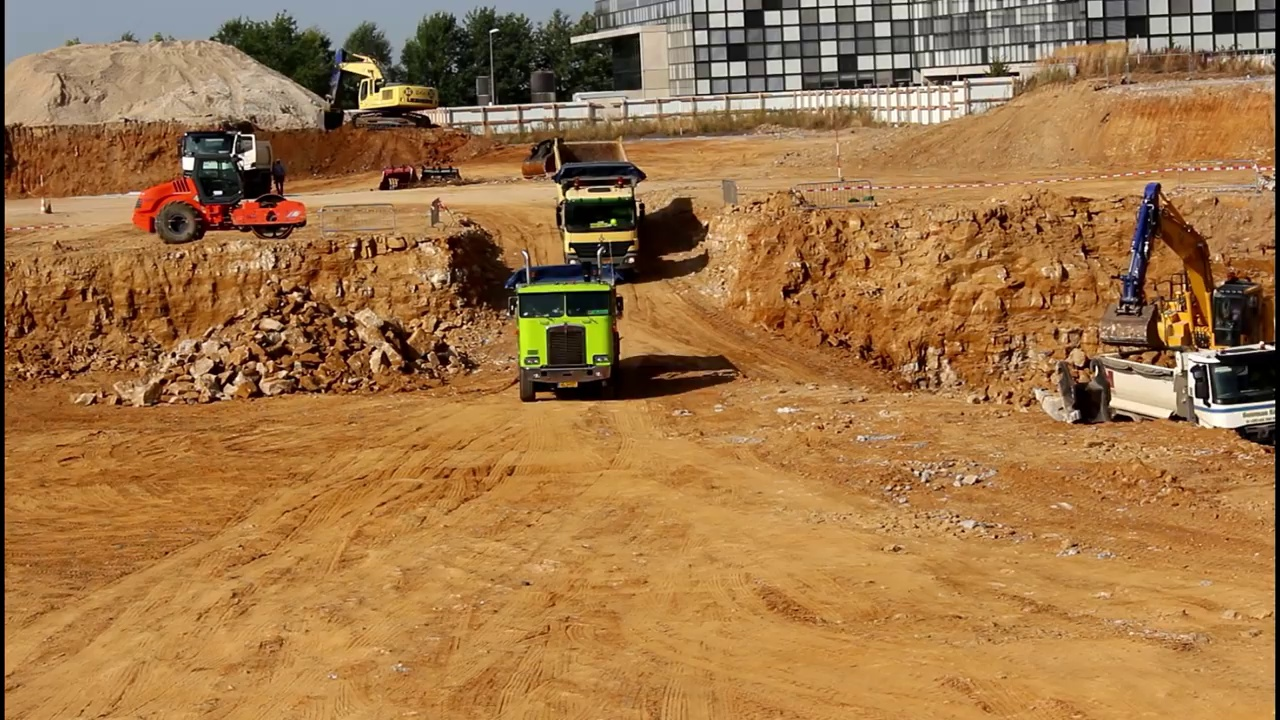compactor: (130, 155, 309, 243)
excavator: (1092, 178, 1280, 396), (317, 44, 443, 131)
truck: (1096, 338, 1280, 455), (507, 241, 631, 409), (547, 128, 653, 279), (174, 119, 278, 212)
worker: (268, 148, 291, 202)
